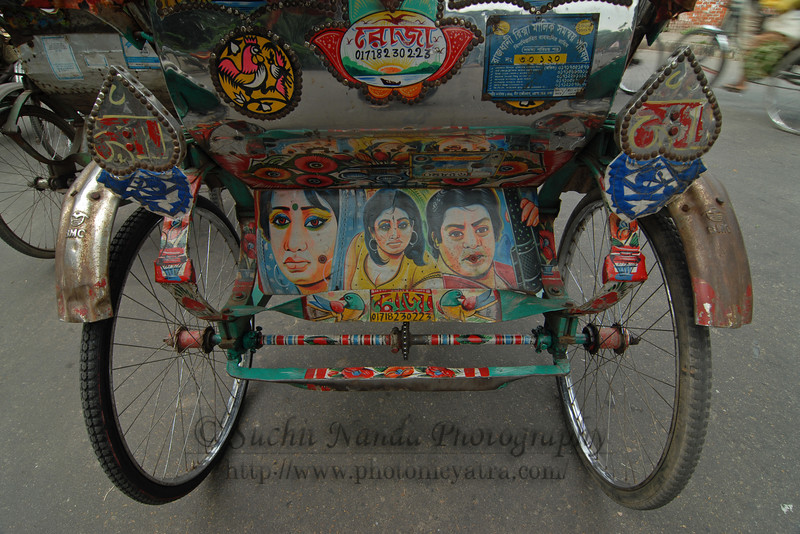Rickshaw: (98, 4, 719, 514), (1, 4, 167, 269)
